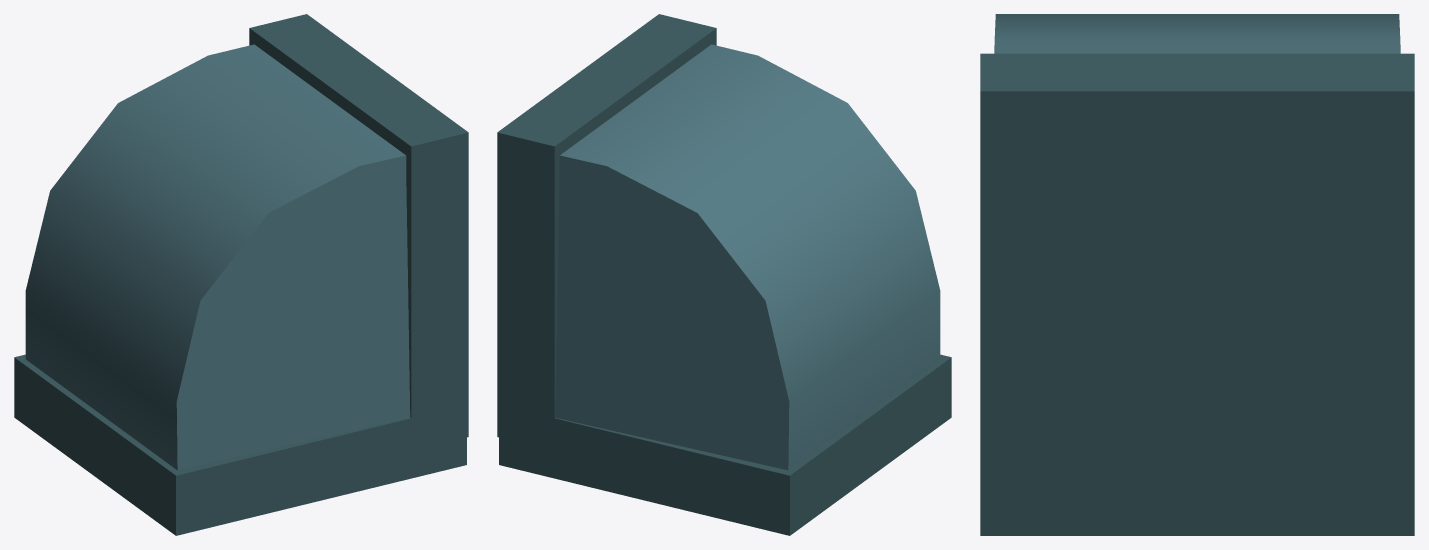
The model's file is Vent_2_D_2.fbx.
3 renders of one model, left to right at view 1: azimuth 30°, elevation 25°; view 2: azimuth 150°, elevation 25°; view 3: azimuth 270°, elevation 25°, orthographic. The views are drawn at different scales.
Parts seen in each view (by area): view 1: Vent_2_D_2; view 2: Vent_2_D_2; view 3: Vent_2_D_2.
Part boxes in pixels (<box>): Vent_2_D_2: <box>14,14,468,535</box>; Vent_2_D_2: <box>497,14,951,535</box>; Vent_2_D_2: <box>980,14,1414,535</box>.
Size of the model in its own units: 37.19 by 40.33 by 35.62.
